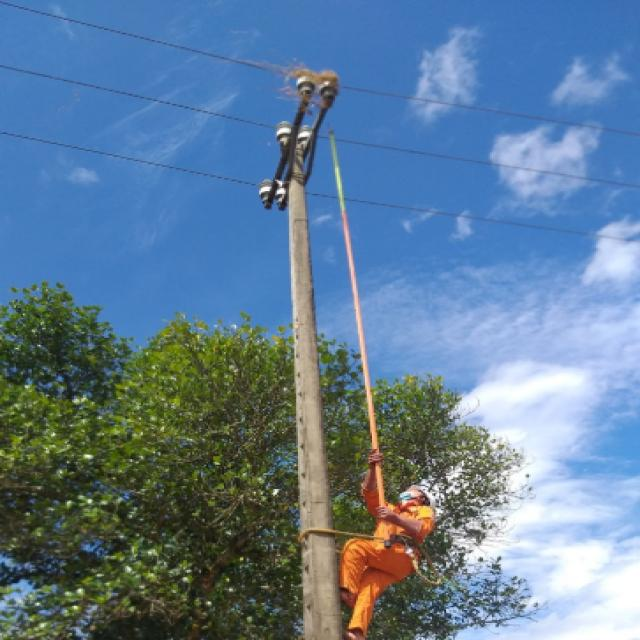植被遮挡: (273, 63, 344, 118)
